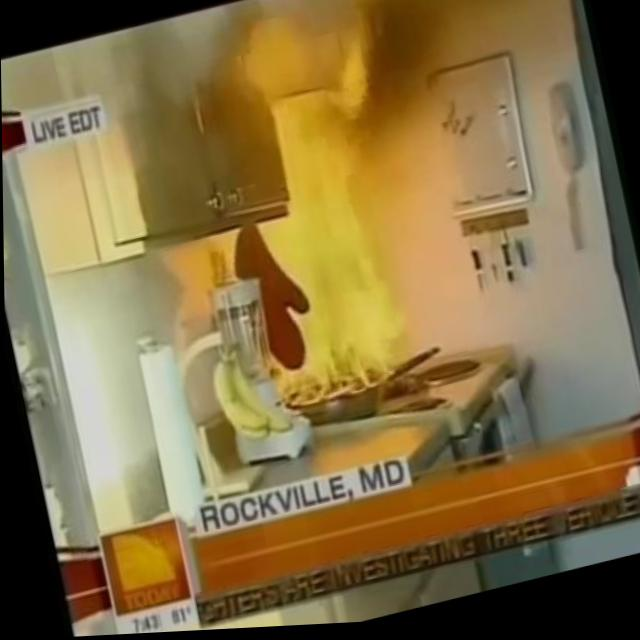fire: (219, 92, 423, 421)
